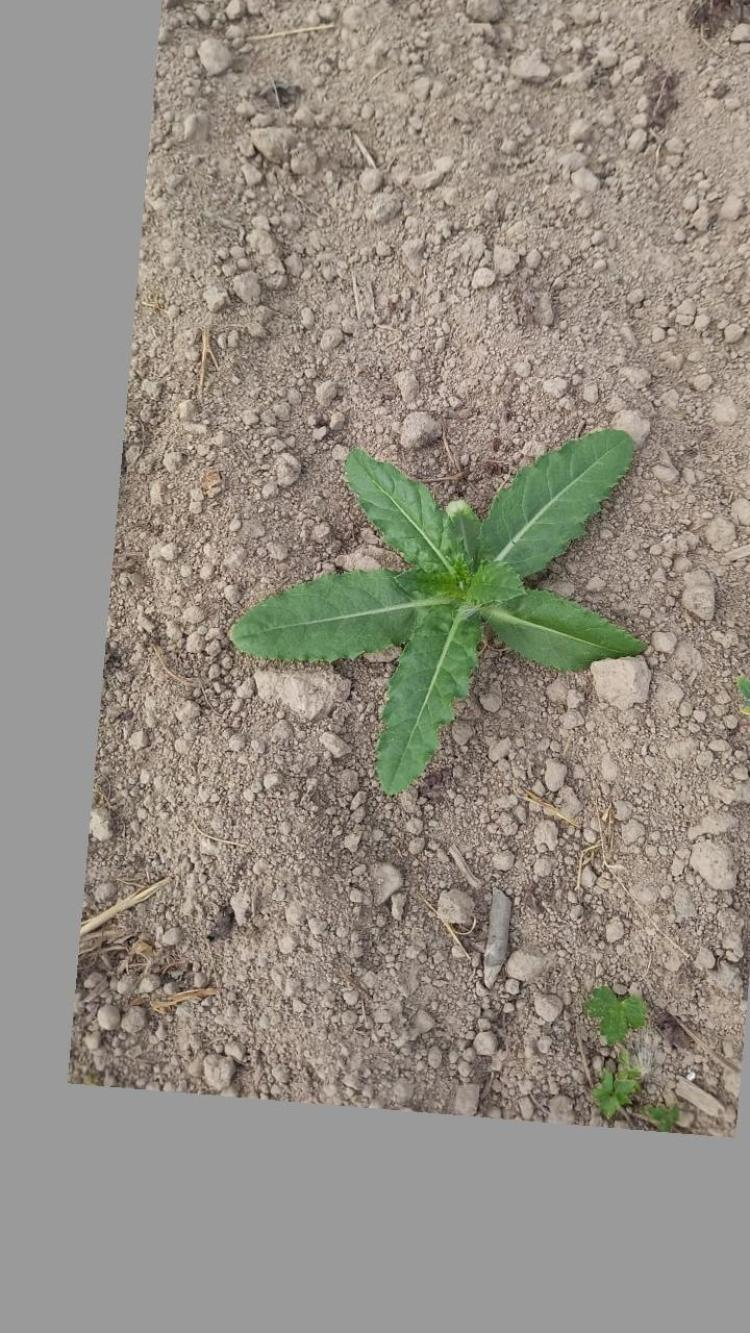osot: (233, 425, 650, 802)
